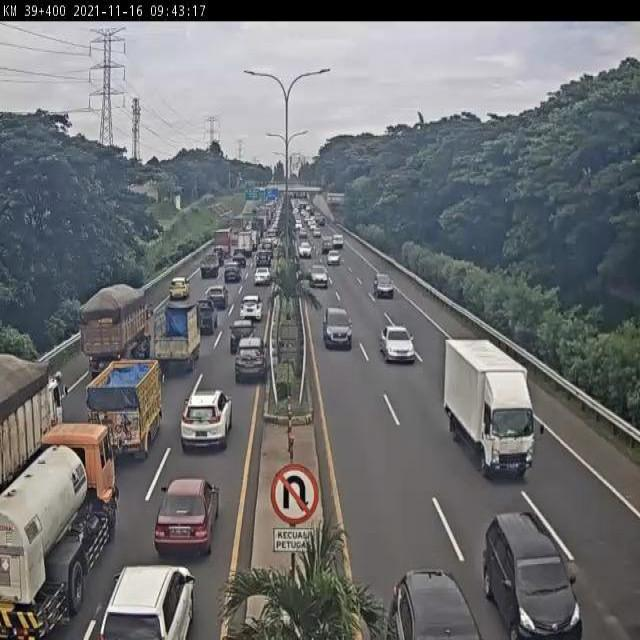car: (486, 508, 575, 640), (102, 565, 193, 640), (155, 480, 218, 557), (178, 388, 234, 453), (232, 336, 267, 388), (381, 321, 417, 367), (323, 305, 353, 351), (228, 319, 255, 356), (191, 298, 218, 334), (371, 272, 396, 300), (239, 295, 263, 321), (198, 252, 220, 280), (308, 262, 330, 290), (167, 275, 191, 300), (207, 284, 228, 311), (223, 260, 243, 284), (252, 264, 271, 287)
small truck: (446, 335, 537, 477), (88, 363, 162, 461), (146, 303, 200, 380)
truck-m-: (1, 422, 119, 638), (0, 357, 64, 496), (78, 286, 156, 390)
